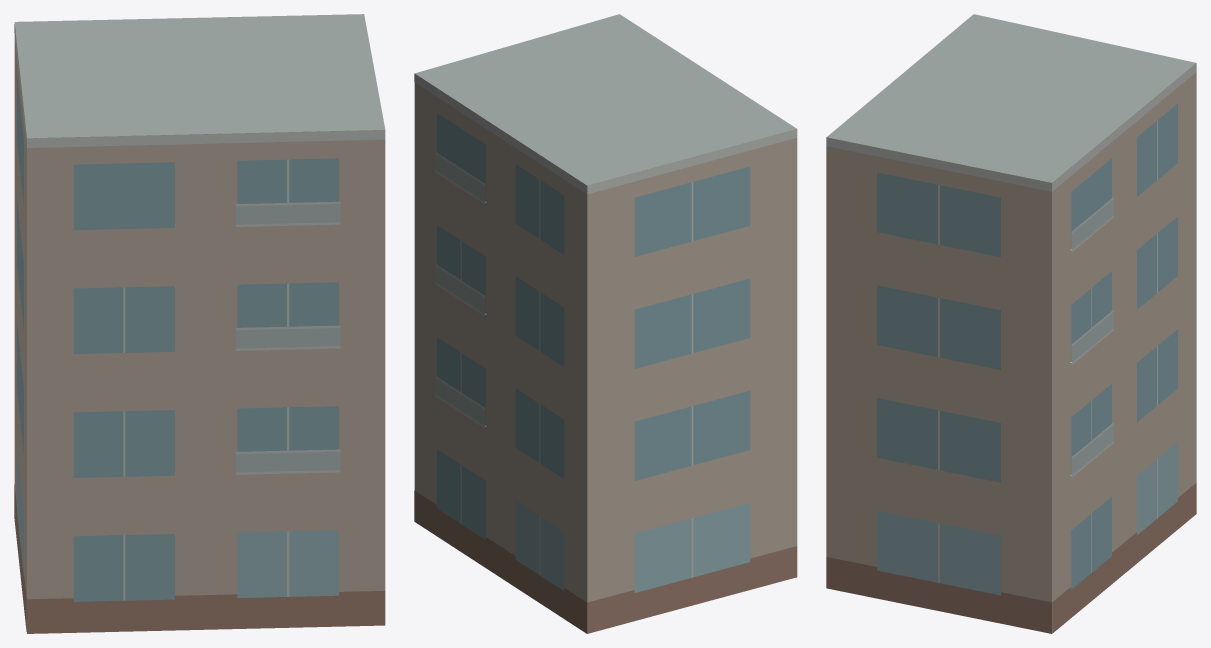
The model's file is survey-upis-32734755.glb.
3 views of the same model, side by side, from view 1: azimuth 30°, elevation 25°; view 2: azimuth 150°, elevation 25°; view 3: azimuth 270°, elevation 25° (orthographic). The views are drawn at different scales.
Visible parts, largest first — view 1: survey-upis-32734755.tmp; view 2: survey-upis-32734755.tmp; view 3: survey-upis-32734755.tmp.
Boxes of the visible parts, x1=… form: survey-upis-32734755.tmp: x1=14, y1=14, x2=385, y2=633; survey-upis-32734755.tmp: x1=414, y1=14, x2=797, y2=633; survey-upis-32734755.tmp: x1=826, y1=14, x2=1196, y2=633.
Bounding box in the file's own units: 9.97 × 12.4 × 9.23.
